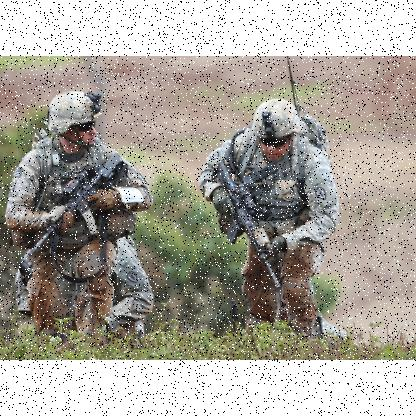gun: (28, 148, 126, 254), (222, 161, 278, 285)
